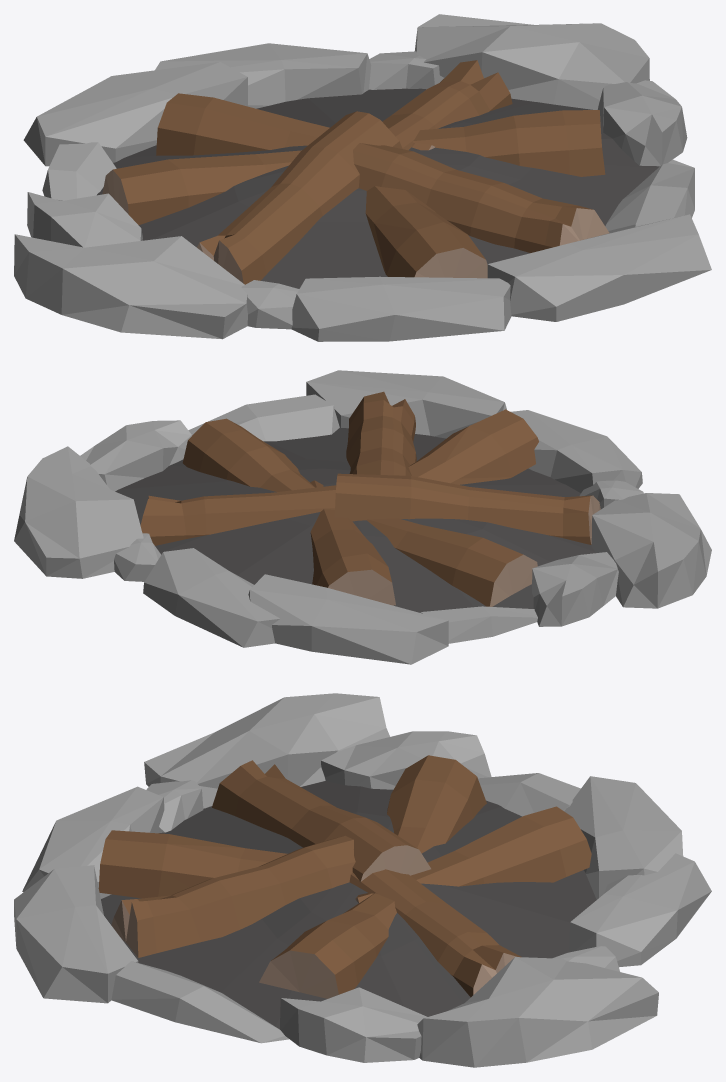
The model's file is Isl_14_Coals.fbx.
3 renders of one model, top to bottom at view 1: azimuth 30°, elevation 25°; view 2: azimuth 150°, elevation 25°; view 3: azimuth 270°, elevation 25°, orthographic. The views are drawn at different scales.
Visible parts, largest first — view 1: Isl_14_Coals; view 2: Isl_14_Coals; view 3: Isl_14_Coals.
Boxes of the visible parts, x1=… form: Isl_14_Coals: x1=14, y1=14, x2=711, y2=341; Isl_14_Coals: x1=14, y1=370, x2=711, y2=664; Isl_14_Coals: x1=14, y1=693, x2=711, y2=1067.
Bounding box in the file's own units: 151 × 133 × 14.61.
1 material, 1 textured.
